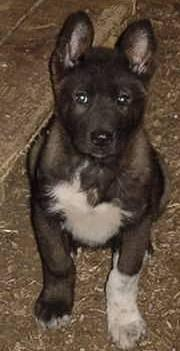dog: (28, 11, 168, 348)
